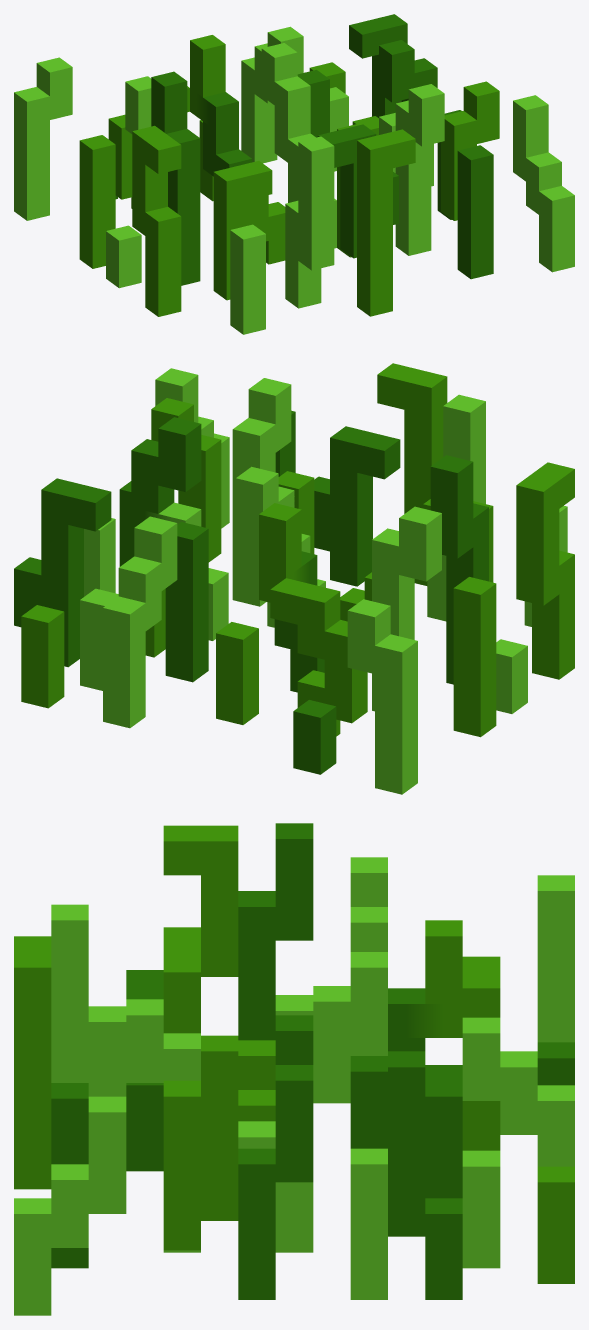
Rendered from Grass.fbx.
3 renders of one model, top to bottom at view 1: azimuth 30°, elevation 25°; view 2: azimuth 150°, elevation 25°; view 3: azimuth 270°, elevation 25°, orthographic. The views are drawn at different scales.
Size of the model in its own units: 16 by 8 by 15.
1 material, 1 textured.
